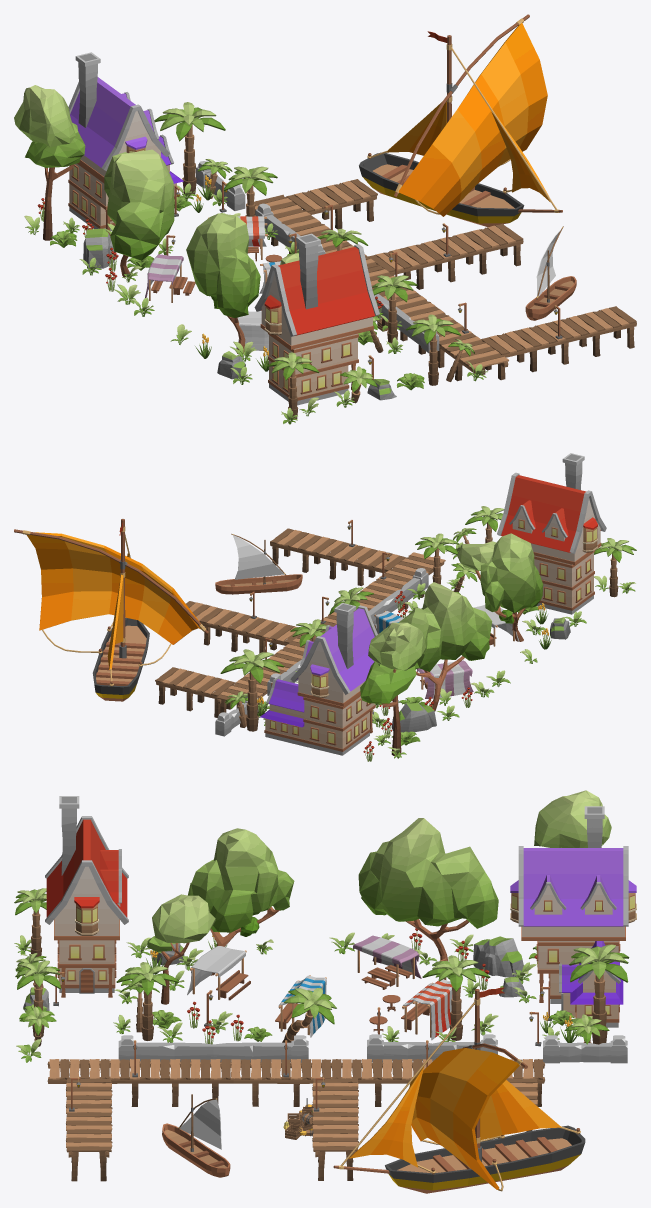
The model's file is trade_port.glb.
The picture shows the model from 3 angles, top to bottom: view 1: azimuth 30°, elevation 25°; view 2: azimuth 150°, elevation 25°; view 3: azimuth 270°, elevation 25°; orthographic projection. The views are drawn at different scales.
Parts seen in each view (by area): view 1: ship 2_215, wooden pier 3_200, trading house_189, trading house 2_111, tree 3_146, tree 2_172, tree 9_198, palm tree large 2 (6)_81, sailboat_181, food tent 3_8, palm tree large 2 (2)_44, palm tree large 2_59 (+9 smaller); view 2: ship 2_215, wooden pier 3_200, trading house 2_111, trading house_189, tree 3_146, tree 2_172, tree 9_198, sailboat_181, palm tree large 2 (6)_81, food tent 3_8, green stone 4_163, stone fence large_79 (+8 smaller); view 3: ship 2_215, wooden pier 3_200, trading house 2_111, trading house_189, tree 3_146, tree 2_172, stone fence large_79, tree 10_10, sailboat_181, tree 9_198, palm tree large 2 (6)_81, food tent 3_8 (+13 smaller).
Part boxes in pixels (x1=…): ship 2_215: x1=359, y1=14, x2=562, y2=226; wooden pier 3_200: x1=254, y1=179, x2=636, y2=381; trading house_189: x1=254, y1=233, x2=379, y2=405; trading house 2_111: x1=68, y1=52, x2=183, y2=235; tree 3_146: x1=104, y1=149, x2=174, y2=277; tree 2_172: x1=186, y1=213, x2=260, y2=353; tree 9_198: x1=14, y1=85, x2=85, y2=240; palm tree large 2 (6)_81: x1=154, y1=102, x2=225, y2=195; sailboat_181: x1=525, y1=226, x2=576, y2=320; food tent 3_8: x1=145, y1=254, x2=195, y2=302; palm tree large 2 (2)_44: x1=406, y1=314, x2=461, y2=385; palm tree large 2_59: x1=372, y1=275, x2=417, y2=343; ship 2_215: x1=14, y1=519, x2=208, y2=701; wooden pier 3_200: x1=155, y1=528, x2=445, y2=727; trading house 2_111: x1=260, y1=603, x2=377, y2=755; trading house_189: x1=497, y1=453, x2=606, y2=614; tree 3_146: x1=399, y1=582, x2=492, y2=711; tree 2_172: x1=480, y1=533, x2=543, y2=641; tree 9_198: x1=360, y1=622, x2=426, y2=755; sailboat_181: x1=215, y1=533, x2=302, y2=594; palm tree large 2 (6)_81: x1=220, y1=649, x2=284, y2=731; food tent 3_8: x1=417, y1=660, x2=473, y2=698; green stone 4_163: x1=391, y1=702, x2=436, y2=732; stone fence large_79: x1=368, y1=568, x2=428, y2=625; ship 2_215: x1=333, y1=987, x2=585, y2=1193; wooden pier 3_200: x1=47, y1=1059, x2=544, y2=1181; trading house 2_111: x1=510, y1=806, x2=636, y2=1027; trading house_189: x1=45, y1=796, x2=128, y2=997; tree 3_146: x1=358, y1=818, x2=498, y2=960; tree 2_172: x1=188, y1=828, x2=294, y2=975; stone fence large_79: x1=118, y1=1035, x2=308, y2=1062; tree 10_10: x1=147, y1=894, x2=215, y2=1004; sailboat_181: x1=162, y1=1094, x2=230, y2=1177; tree 9_198: x1=534, y1=790, x2=611, y2=847; palm tree large 2 (6)_81: x1=569, y1=944, x2=629, y2=1044; food tent 3_8: x1=353, y1=935, x2=421, y2=989.
Size of the model in its own units: 18.79 by 7.78 by 19.22.
Materials: 1 (1 with a texture image).
